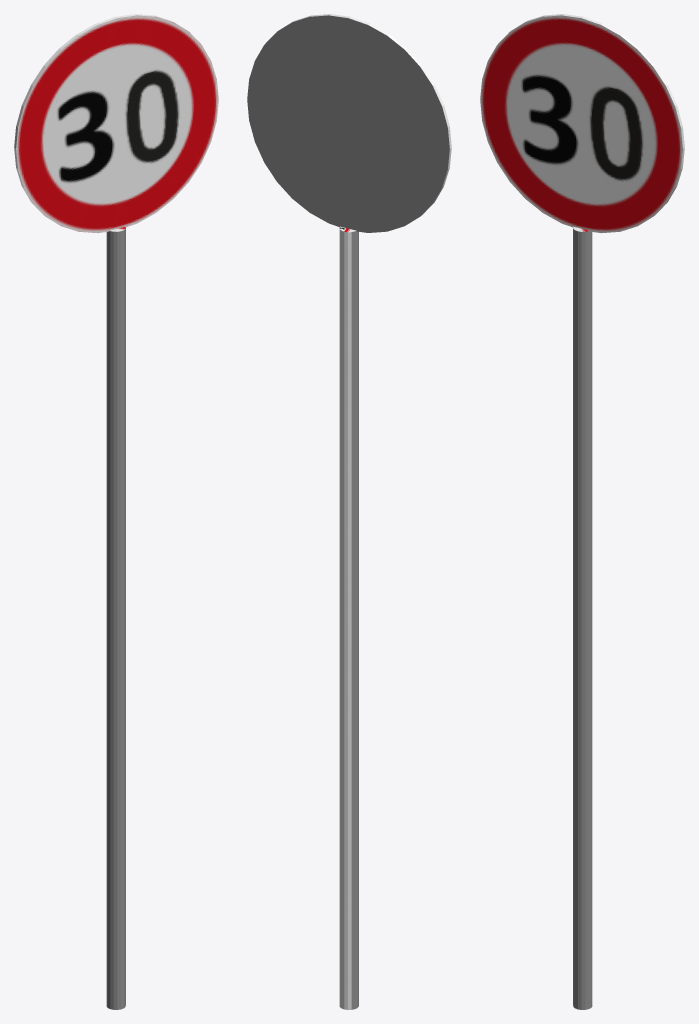
Rendered from azami_hiz_sinirlamasi_30.fbx.
3 renders of one model, left to right at view 1: azimuth 30°, elevation 25°; view 2: azimuth 150°, elevation 25°; view 3: azimuth 330°, elevation 25°, orthographic.
Parts seen in each view (by area): view 1: azami_hiz_sinirlamasi_30; view 2: azami_hiz_sinirlamasi_30; view 3: azami_hiz_sinirlamasi_30.
Boxes of the visible parts, x1,y1,x2,y2 form: azami_hiz_sinirlamasi_30: (14,14,218,1009); azami_hiz_sinirlamasi_30: (247,14,451,1009); azami_hiz_sinirlamasi_30: (480,14,684,1009).
Size of the model in its own units: 60 by 280 by 5.
2 materials, 1 textured.
